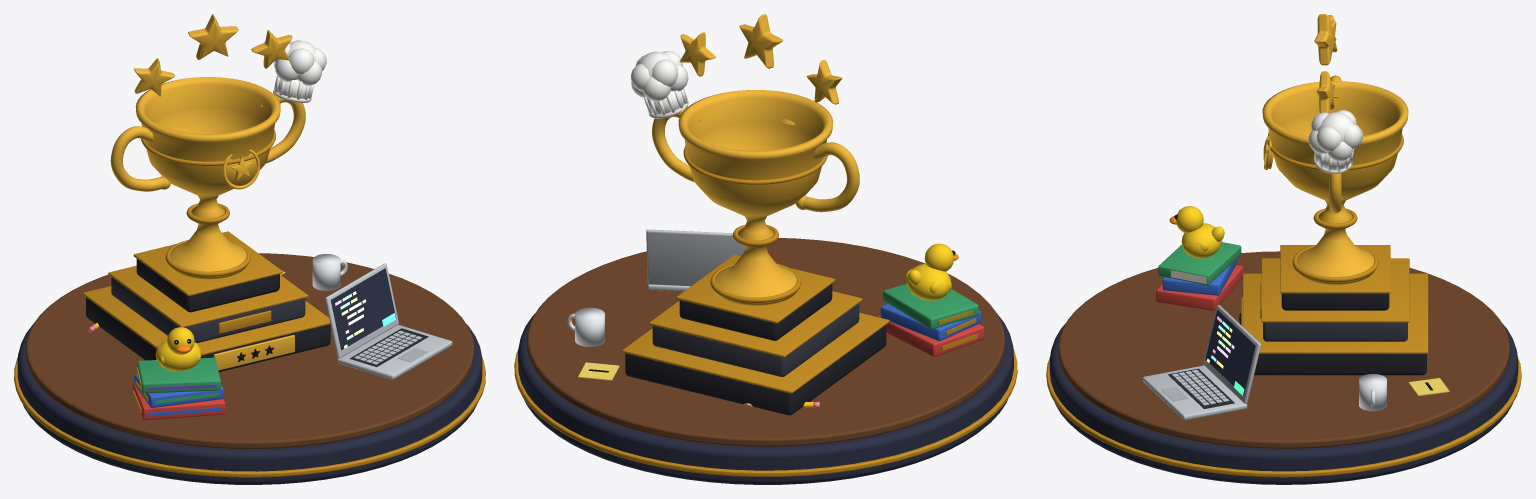
The model's file is codechef_trophy.glb.
3 views of the same model, side by side, from view 1: azimuth 30°, elevation 25°; view 2: azimuth 150°, elevation 25°; view 3: azimuth 270°, elevation 25° (orthographic). The views are drawn at different scales.
Visible parts, largest first — view 1: codechef_trophy; view 2: codechef_trophy; view 3: codechef_trophy.
Part boxes in pixels (left/top/right/bottom): codechef_trophy: left=14, top=14, right=485, bottom=484; codechef_trophy: left=514, top=14, right=1017, bottom=484; codechef_trophy: left=1046, top=14, right=1521, bottom=484.
Bounding box in the file's own units: 1 × 0.8505 × 1.
